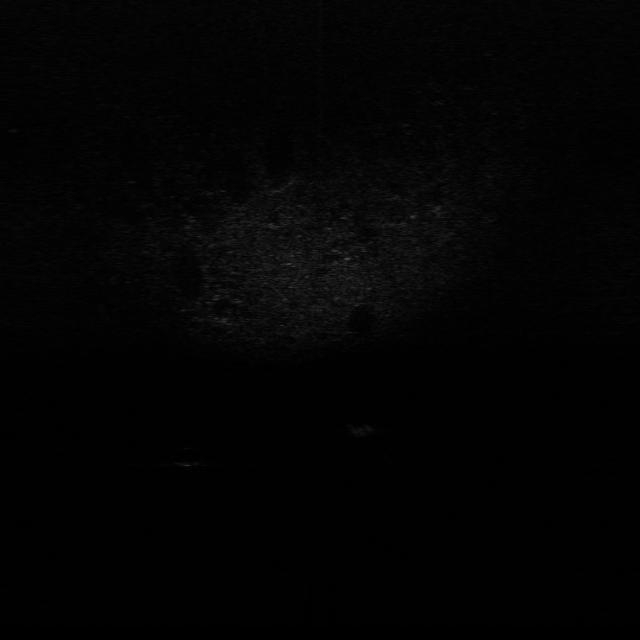ball: (170, 443, 204, 468)
cube: (348, 418, 381, 438)
